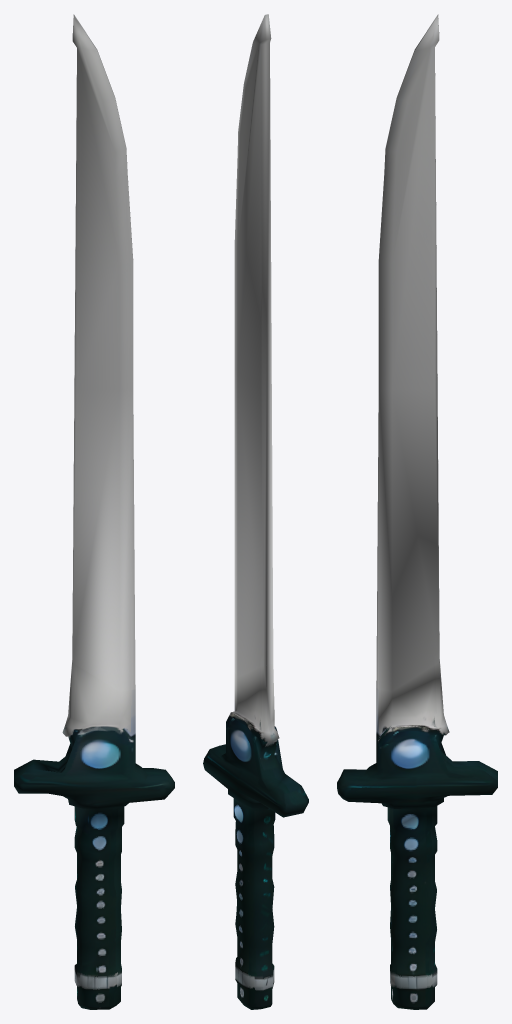
File: sword.glb
The picture shows the model from 3 angles, left to right: view 1: azimuth 90°, elevation 25°; view 2: azimuth 210°, elevation 25°; view 3: azimuth 270°, elevation 25°; orthographic projection.
Parts seen in each view (by area): view 1: material; view 2: material; view 3: material.
Boxes of the visible parts, x1,y1,x2,y2 form: material: (14, 14, 174, 1009); material: (203, 14, 308, 1009); material: (337, 14, 497, 1009).
Size of the model in its own units: 0.0723 by 1.9 by 0.2792.
Materials: 1 (1 with a texture image).
